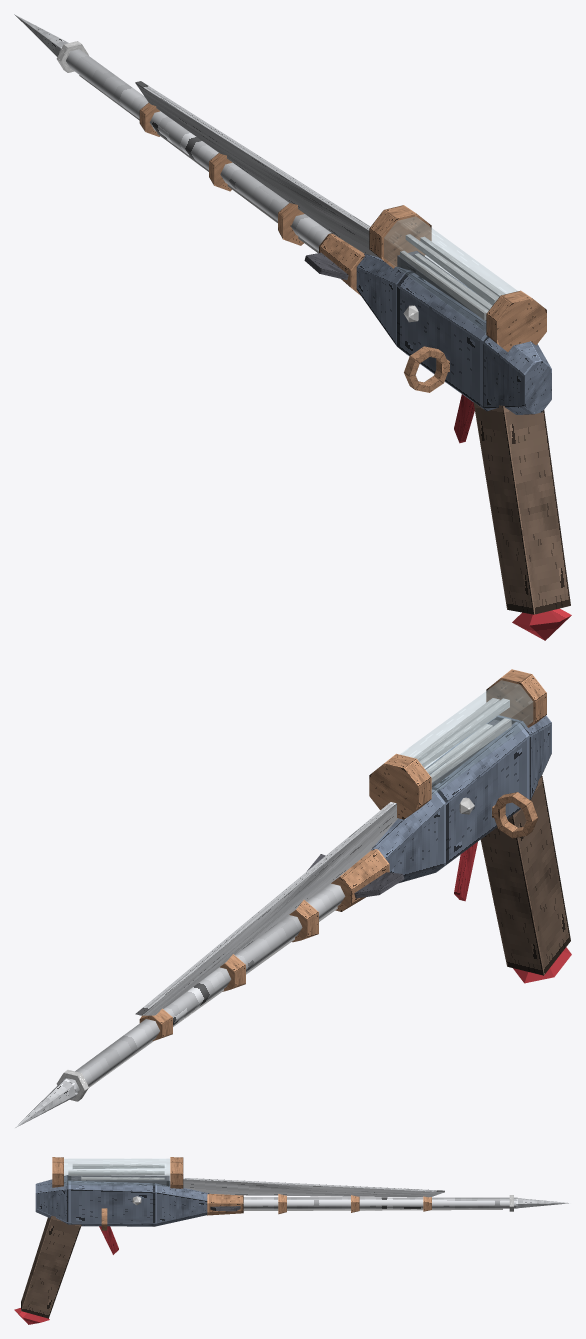
File: weapon_lancet.gltf
The picture shows the model from 3 angles, top to bottom: view 1: azimuth 30°, elevation 25°; view 2: azimuth 150°, elevation 25°; view 3: azimuth 270°, elevation 25°; orthographic projection. The views are drawn at different scales.
Visible parts, largest first — view 1: body, glass, needles, slide, glow; view 2: body, glass, needles, slide, glow; view 3: body, glass, needles, slide, glow.
Boxes of the visible parts, x1,y1,x2,y2 form: body: (14, 14, 571, 640); glass: (384, 216, 517, 331); needles: (400, 234, 505, 320); slide: (304, 233, 364, 295); glow: (56, 41, 418, 322); body: (14, 669, 571, 1128); glass: (400, 680, 532, 795); needles: (414, 698, 511, 782); slide: (307, 849, 404, 911); glow: (56, 797, 474, 1101); body: (14, 1157, 570, 1324); glass: (64, 1159, 169, 1186); needles: (68, 1163, 164, 1180); slide: (207, 1193, 243, 1215); glow: (132, 1195, 513, 1211).
Size of the model in its own units: 0.105 by 0.2516 by 0.7698.
Materials: 5 (5 with a texture image).
